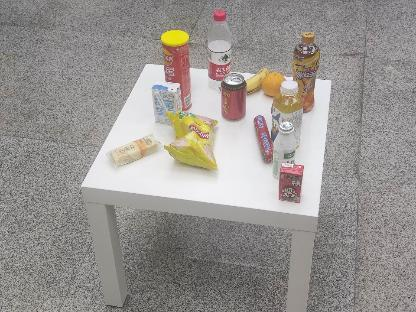Can: (221, 72, 247, 122)
Others: (159, 27, 195, 110), (146, 78, 184, 126), (275, 159, 304, 205)
Plastic Bottle: (200, 7, 233, 90)
